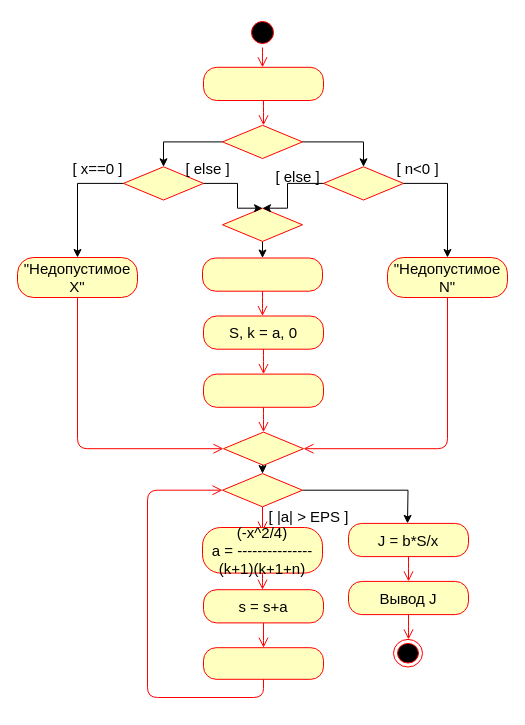
This 525x725 diagram has some shape labels left out. Each missing label, with the centre of its shape:
a = x: the point at 262,274
b = (x/2)**n: the point at 263,390
k = k + 1: the point at 263,663
Ввод Х и N: the point at 263,83
